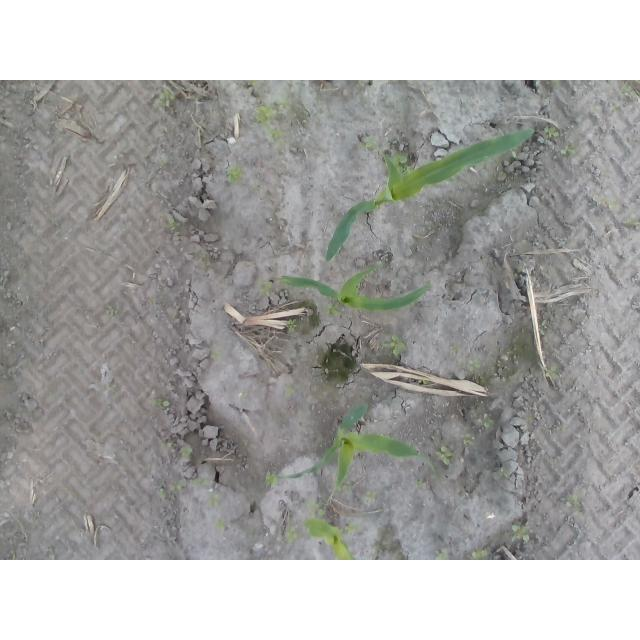Maize: (326, 130, 537, 259), (278, 402, 439, 492), (277, 267, 431, 313), (305, 517, 355, 560)
Weeds: (381, 334, 406, 355), (389, 155, 412, 173), (476, 410, 495, 430), (511, 523, 530, 541), (559, 495, 580, 510), (436, 447, 452, 466), (307, 501, 326, 516), (543, 125, 562, 139), (226, 166, 241, 183), (255, 107, 273, 121), (166, 219, 182, 234), (152, 397, 171, 409), (160, 93, 177, 106), (621, 217, 639, 229), (328, 304, 341, 319), (560, 144, 575, 157), (286, 527, 298, 543), (208, 494, 221, 508), (473, 549, 489, 560), (192, 477, 209, 487), (277, 96, 291, 108), (286, 319, 298, 333), (267, 472, 278, 487), (362, 137, 377, 148), (468, 358, 480, 371), (106, 304, 119, 316), (547, 366, 558, 379), (538, 320, 546, 337), (180, 447, 192, 458), (365, 491, 377, 502), (348, 521, 360, 532), (461, 436, 471, 447), (270, 129, 283, 137), (174, 484, 183, 495), (436, 553, 449, 560), (211, 352, 221, 361), (415, 480, 424, 489), (159, 487, 165, 498)
